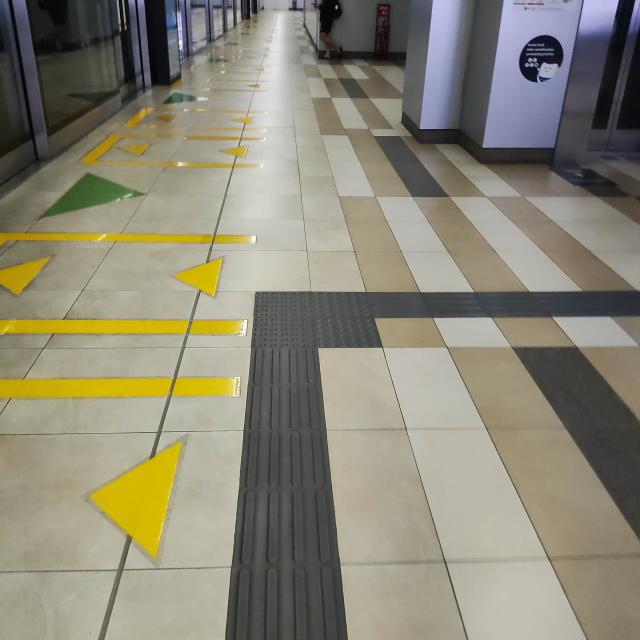kanan: (238, 260, 466, 379)
